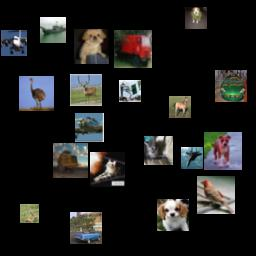airplane: (75, 113, 104, 142), (1, 30, 27, 56), (181, 147, 203, 169)
automobile: (215, 70, 247, 102), (70, 212, 102, 244)
bird: (197, 176, 235, 214), (19, 76, 54, 111), (20, 204, 39, 223)
cat: (90, 152, 125, 187), (144, 136, 173, 165)
deer: (70, 74, 102, 106)
dog: (204, 132, 242, 170), (74, 29, 109, 64), (157, 199, 189, 231), (185, 7, 207, 29)
ship: (40, 17, 66, 43)
truck: (114, 30, 152, 68), (53, 143, 88, 178), (119, 80, 141, 102)
